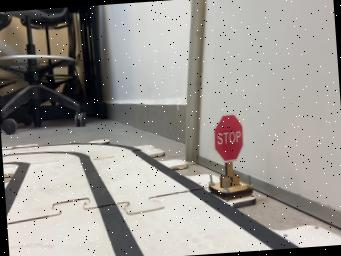stop: (208, 113, 252, 198), (208, 113, 252, 198), (208, 113, 252, 198)
street: (1, 143, 298, 256), (1, 143, 298, 256), (1, 143, 298, 256)
